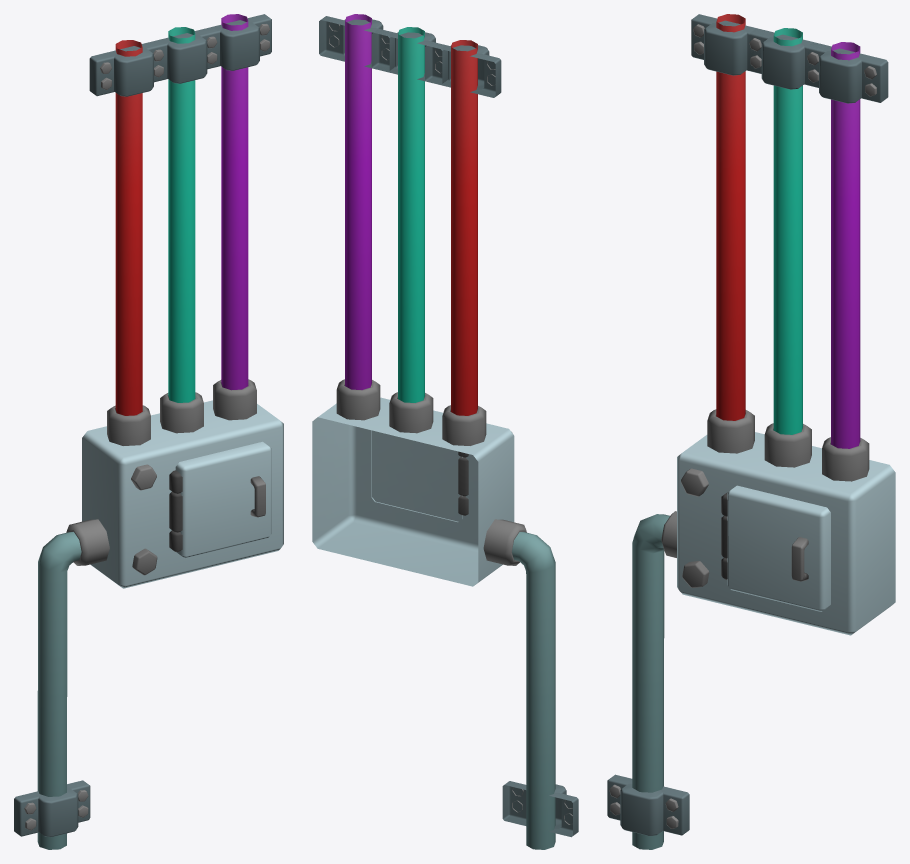
The model's file is SM_Factory_Panel_04.fbx.
3 views of the same model, side by side, from view 1: azimuth 30°, elevation 25°; view 2: azimuth 150°, elevation 25°; view 3: azimuth 330°, elevation 25° (orthographic). The views are drawn at different scales.
Parts seen in each view (by area): view 1: pCylinder27; view 2: pCylinder27; view 3: pCylinder27.
Part boxes in pixels (x1,y1,x2,y2): pCylinder27: (14,14,283,849); pCylinder27: (312,14,578,849); pCylinder27: (607,14,895,849).
Size of the model in its own units: 102 by 36.87 by 300.
